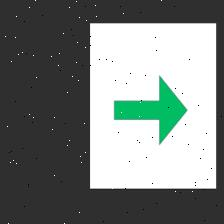right: (110, 72, 193, 147)
